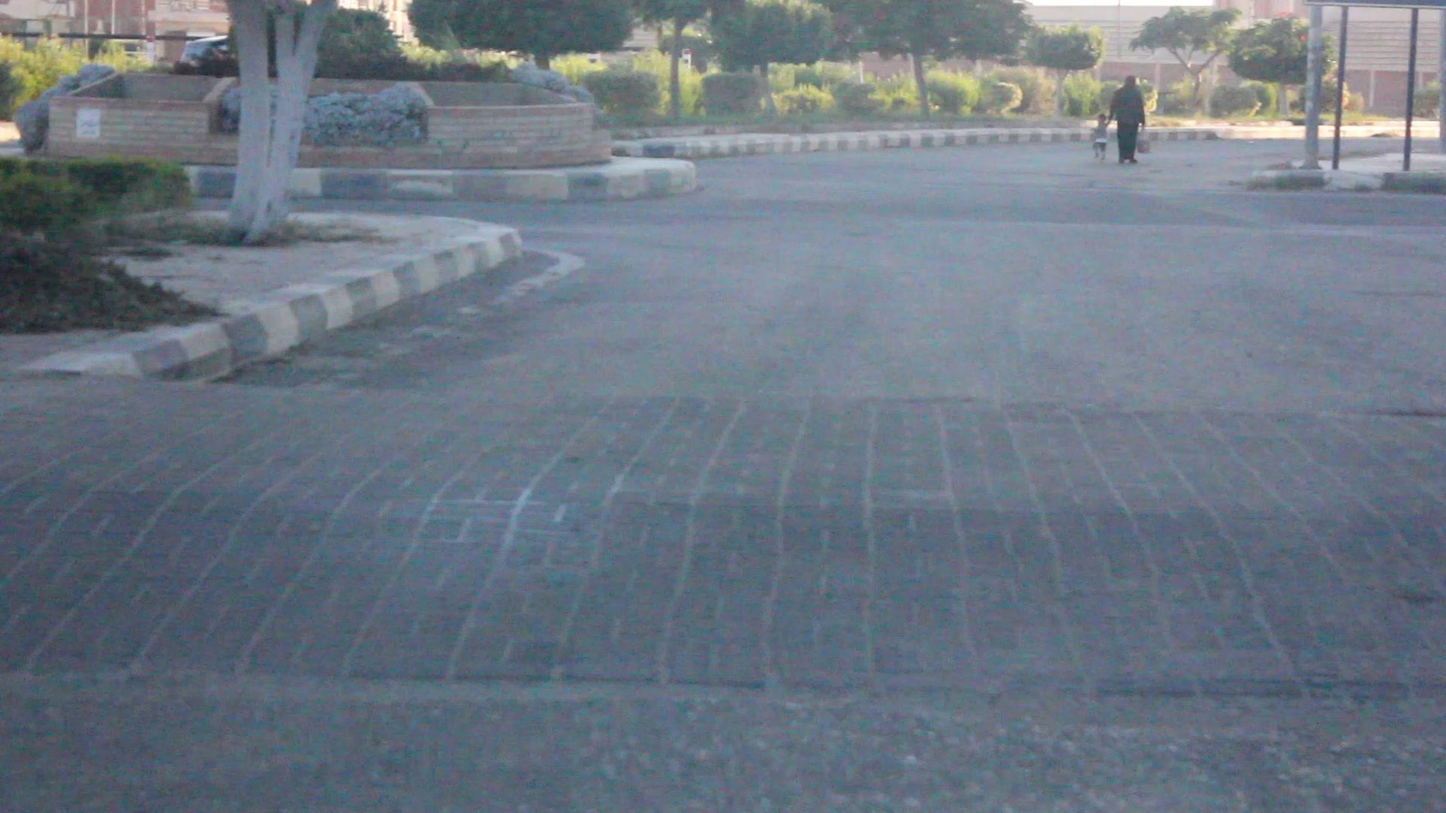Bump: (9, 375, 1446, 728)
